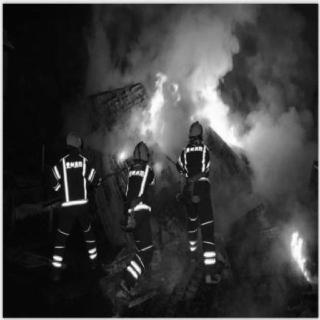Fire: (196, 60, 244, 148), (133, 67, 173, 144), (287, 227, 317, 287)
